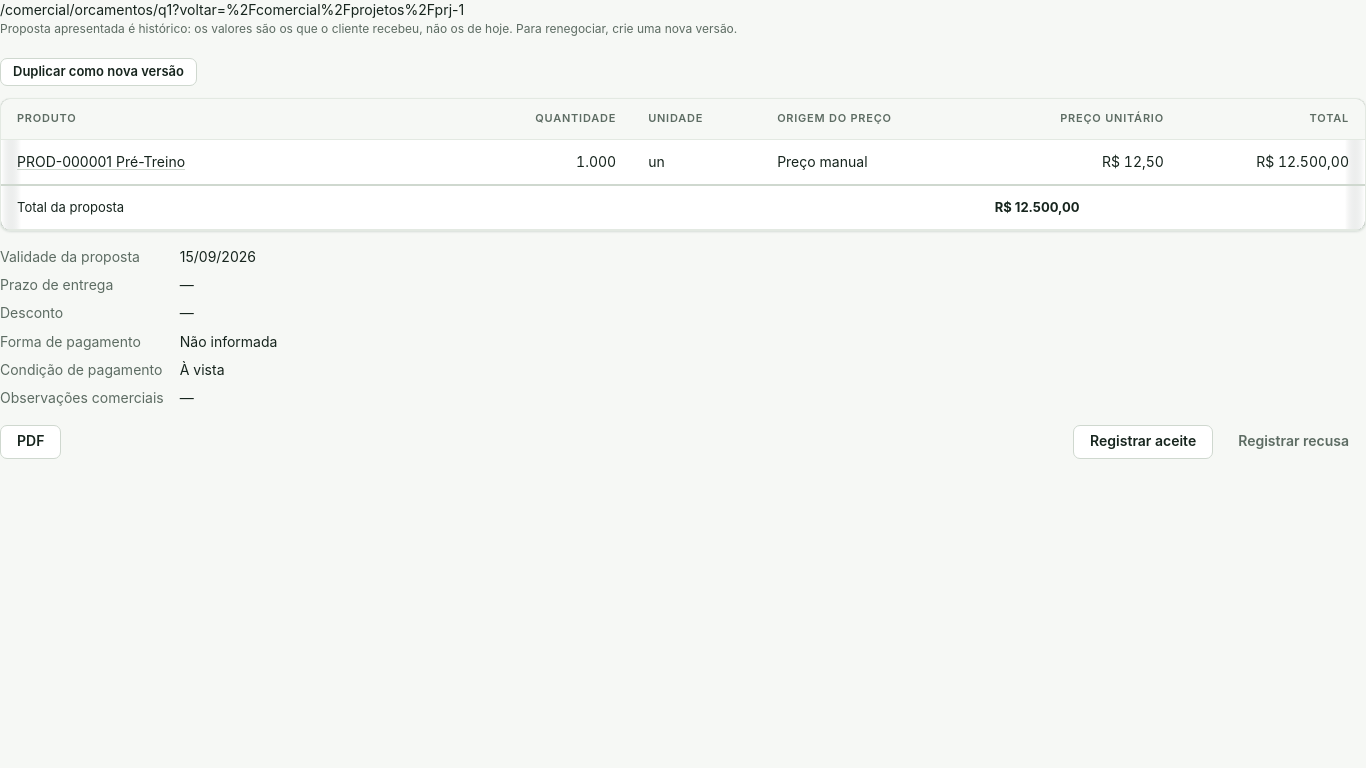
QUOTE-DUPLICATE-01 — Duplicar como nova versão › abre com a versão de origem, nenhuma opção marcada e o botão bloqueado
Click the button "Duplicar como nova versão": (98, 72) 0,58 -> 197,86
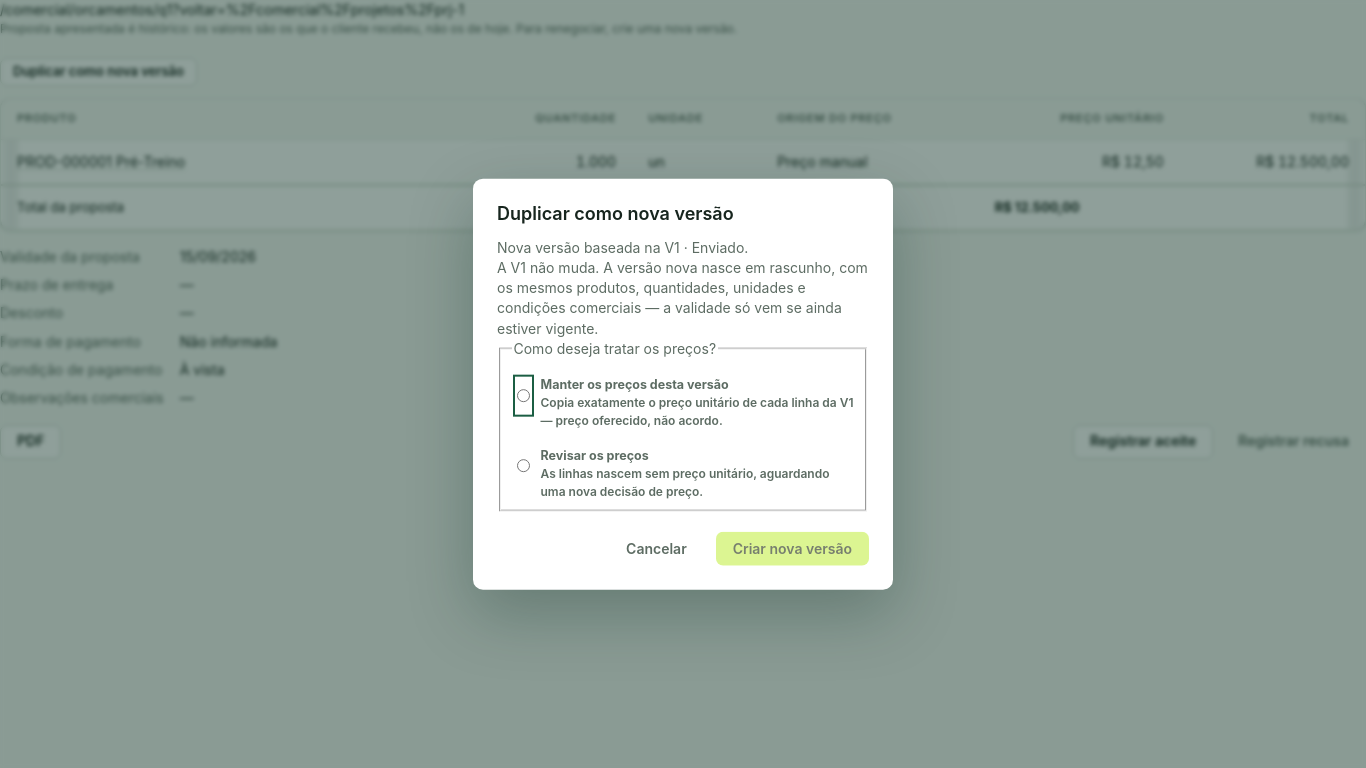
Now the text "Nova versão baseada na V1 · Enviado." is shown, box 497,238 -> 748,255
Now the radio button labelled "Manter os preços desta versão" is not checked
Now the radio button labelled "Revisar os preços" is not checked, box 516,449 -> 530,483
Click the radio button labelled "Manter os preços desta versão": (523, 396) 516,379 -> 530,413
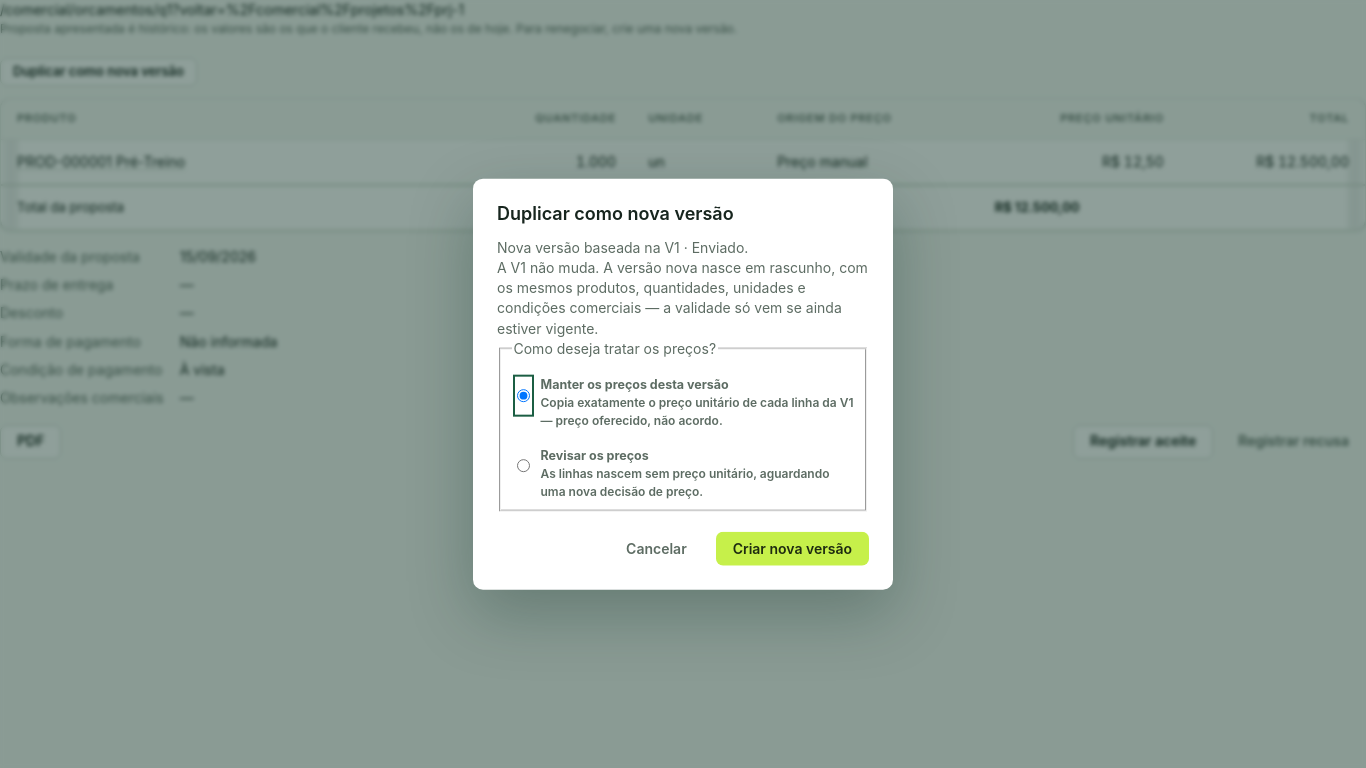
Now the button "Criar nova versão" is enabled, box 716,531 -> 869,565
